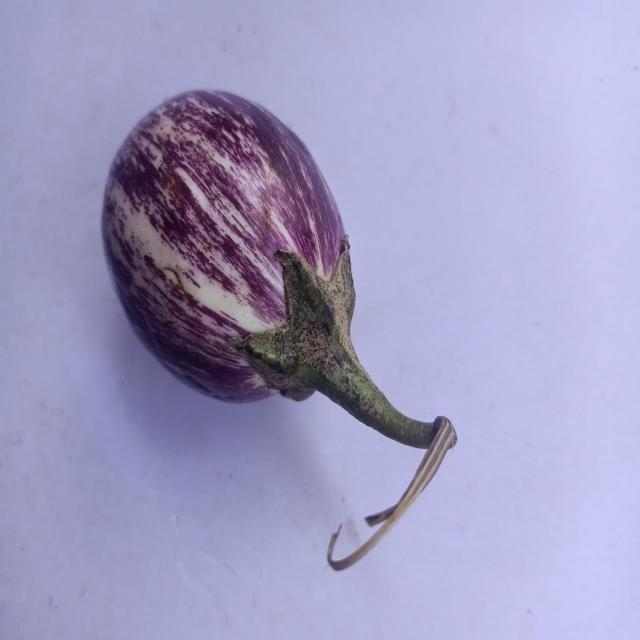Eggplant: (74, 62, 468, 584)
